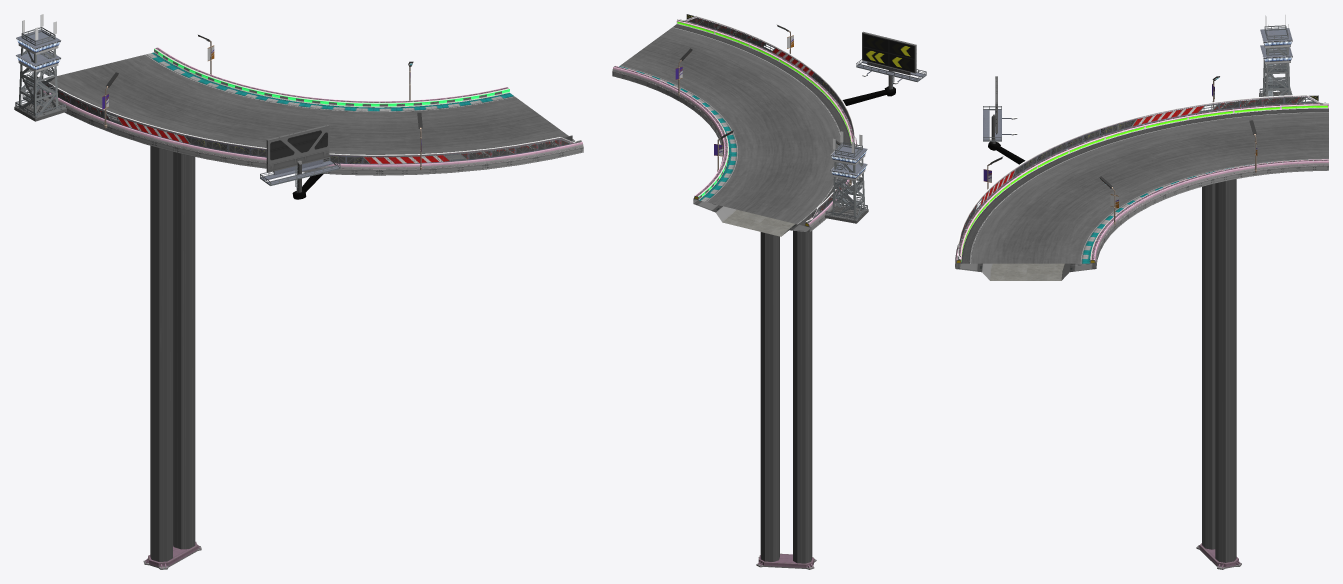
The picture shows the model from 3 angles, left to right: view 1: azimuth 30°, elevation 25°; view 2: azimuth 150°, elevation 25°; view 3: azimuth 270°, elevation 25°; orthographic projection. The views are drawn at different scales.
Visible parts, largest first — view 1: drift_road, support_pylon, wall_drift, standard_arrow_left, prop_billboard_left, pro_stewards_tower, standard_bridge; view 2: drift_road, support_pylon, wall_drift, prop_billboard_left, standard_bridge, pro_stewards_tower, standard_arrow_left, support_ground, tower_attachment_slanted; view 3: drift_road, support_pylon, wall_drift, standard_arrow_left, standard_bridge, pro_stewards_tower, prop_billboard_left.
Part boxes in pixels (box(x1,y1,x2,y2)): drift_road: box(45, 52, 574, 159); support_pylon: box(150, 145, 195, 561); wall_drift: box(28, 47, 583, 169); standard_arrow_left: box(37, 76, 581, 164); prop_billboard_left: box(260, 125, 340, 192); pro_stewards_tower: box(16, 14, 61, 116); standard_bridge: box(26, 85, 583, 175); drift_road: box(619, 24, 850, 225); support_pylon: box(760, 230, 812, 563); wall_drift: box(612, 19, 856, 227); prop_billboard_left: box(856, 31, 926, 89); standard_bridge: box(612, 71, 852, 236); pro_stewards_tower: box(830, 131, 867, 219); standard_arrow_left: box(677, 14, 855, 222); support_ground: box(756, 553, 816, 569); tower_attachment_slanted: box(825, 199, 868, 223); drift_road: box(961, 108, 1328, 263); support_pylon: box(1202, 179, 1236, 562); wall_drift: box(955, 103, 1328, 263); standard_arrow_left: box(957, 94, 1328, 259); standard_bridge: box(955, 165, 1328, 280); pro_stewards_tower: box(1260, 15, 1292, 98); prop_billboard_left: box(983, 76, 1017, 143).
Bounding box in the file's own units: 12930 × 17178 × 11839.
